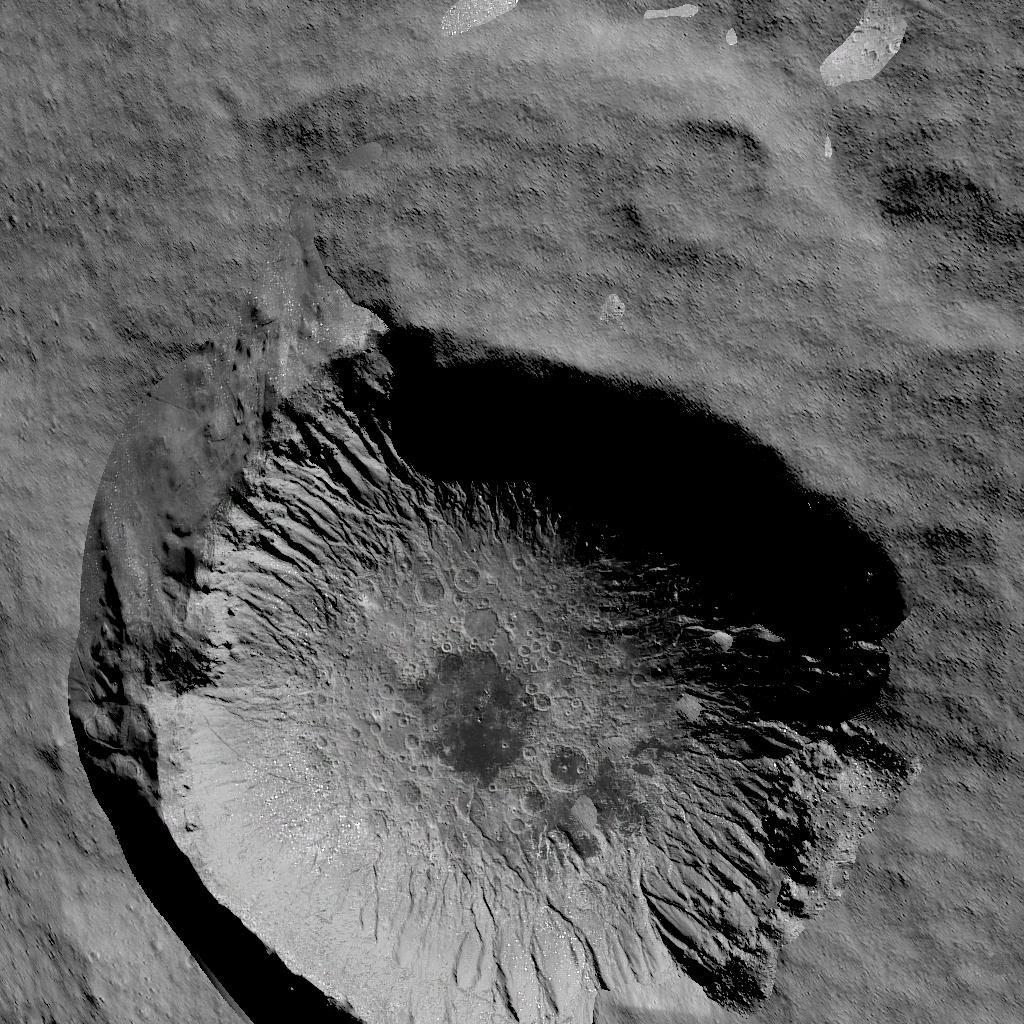Crater: (70, 273, 938, 1024), (631, 91, 797, 262)
Plan surface: (9, 0, 624, 260)
